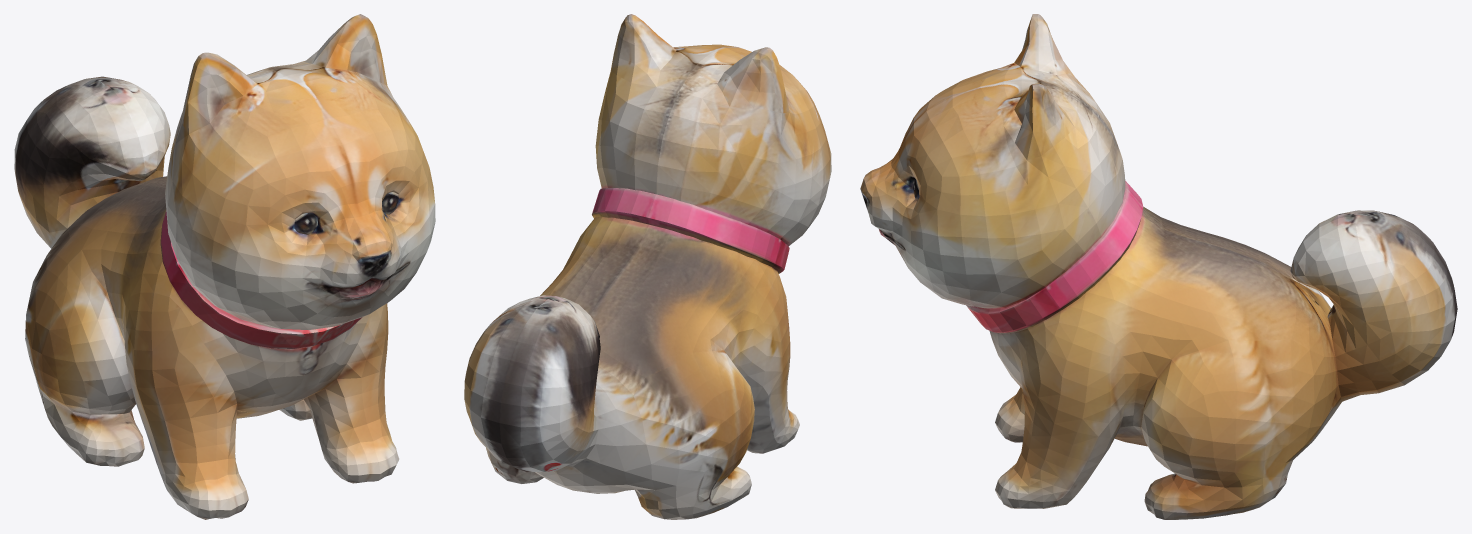
File: shiba.glb
3 renders of one model, left to right at view 1: azimuth 30°, elevation 25°; view 2: azimuth 150°, elevation 25°; view 3: azimuth 270°, elevation 25°, orthographic. The views are drawn at different scales.
Size of the model in its own units: 0.934 by 1.4 by 1.8.
Materials: 1 (1 with a texture image).
